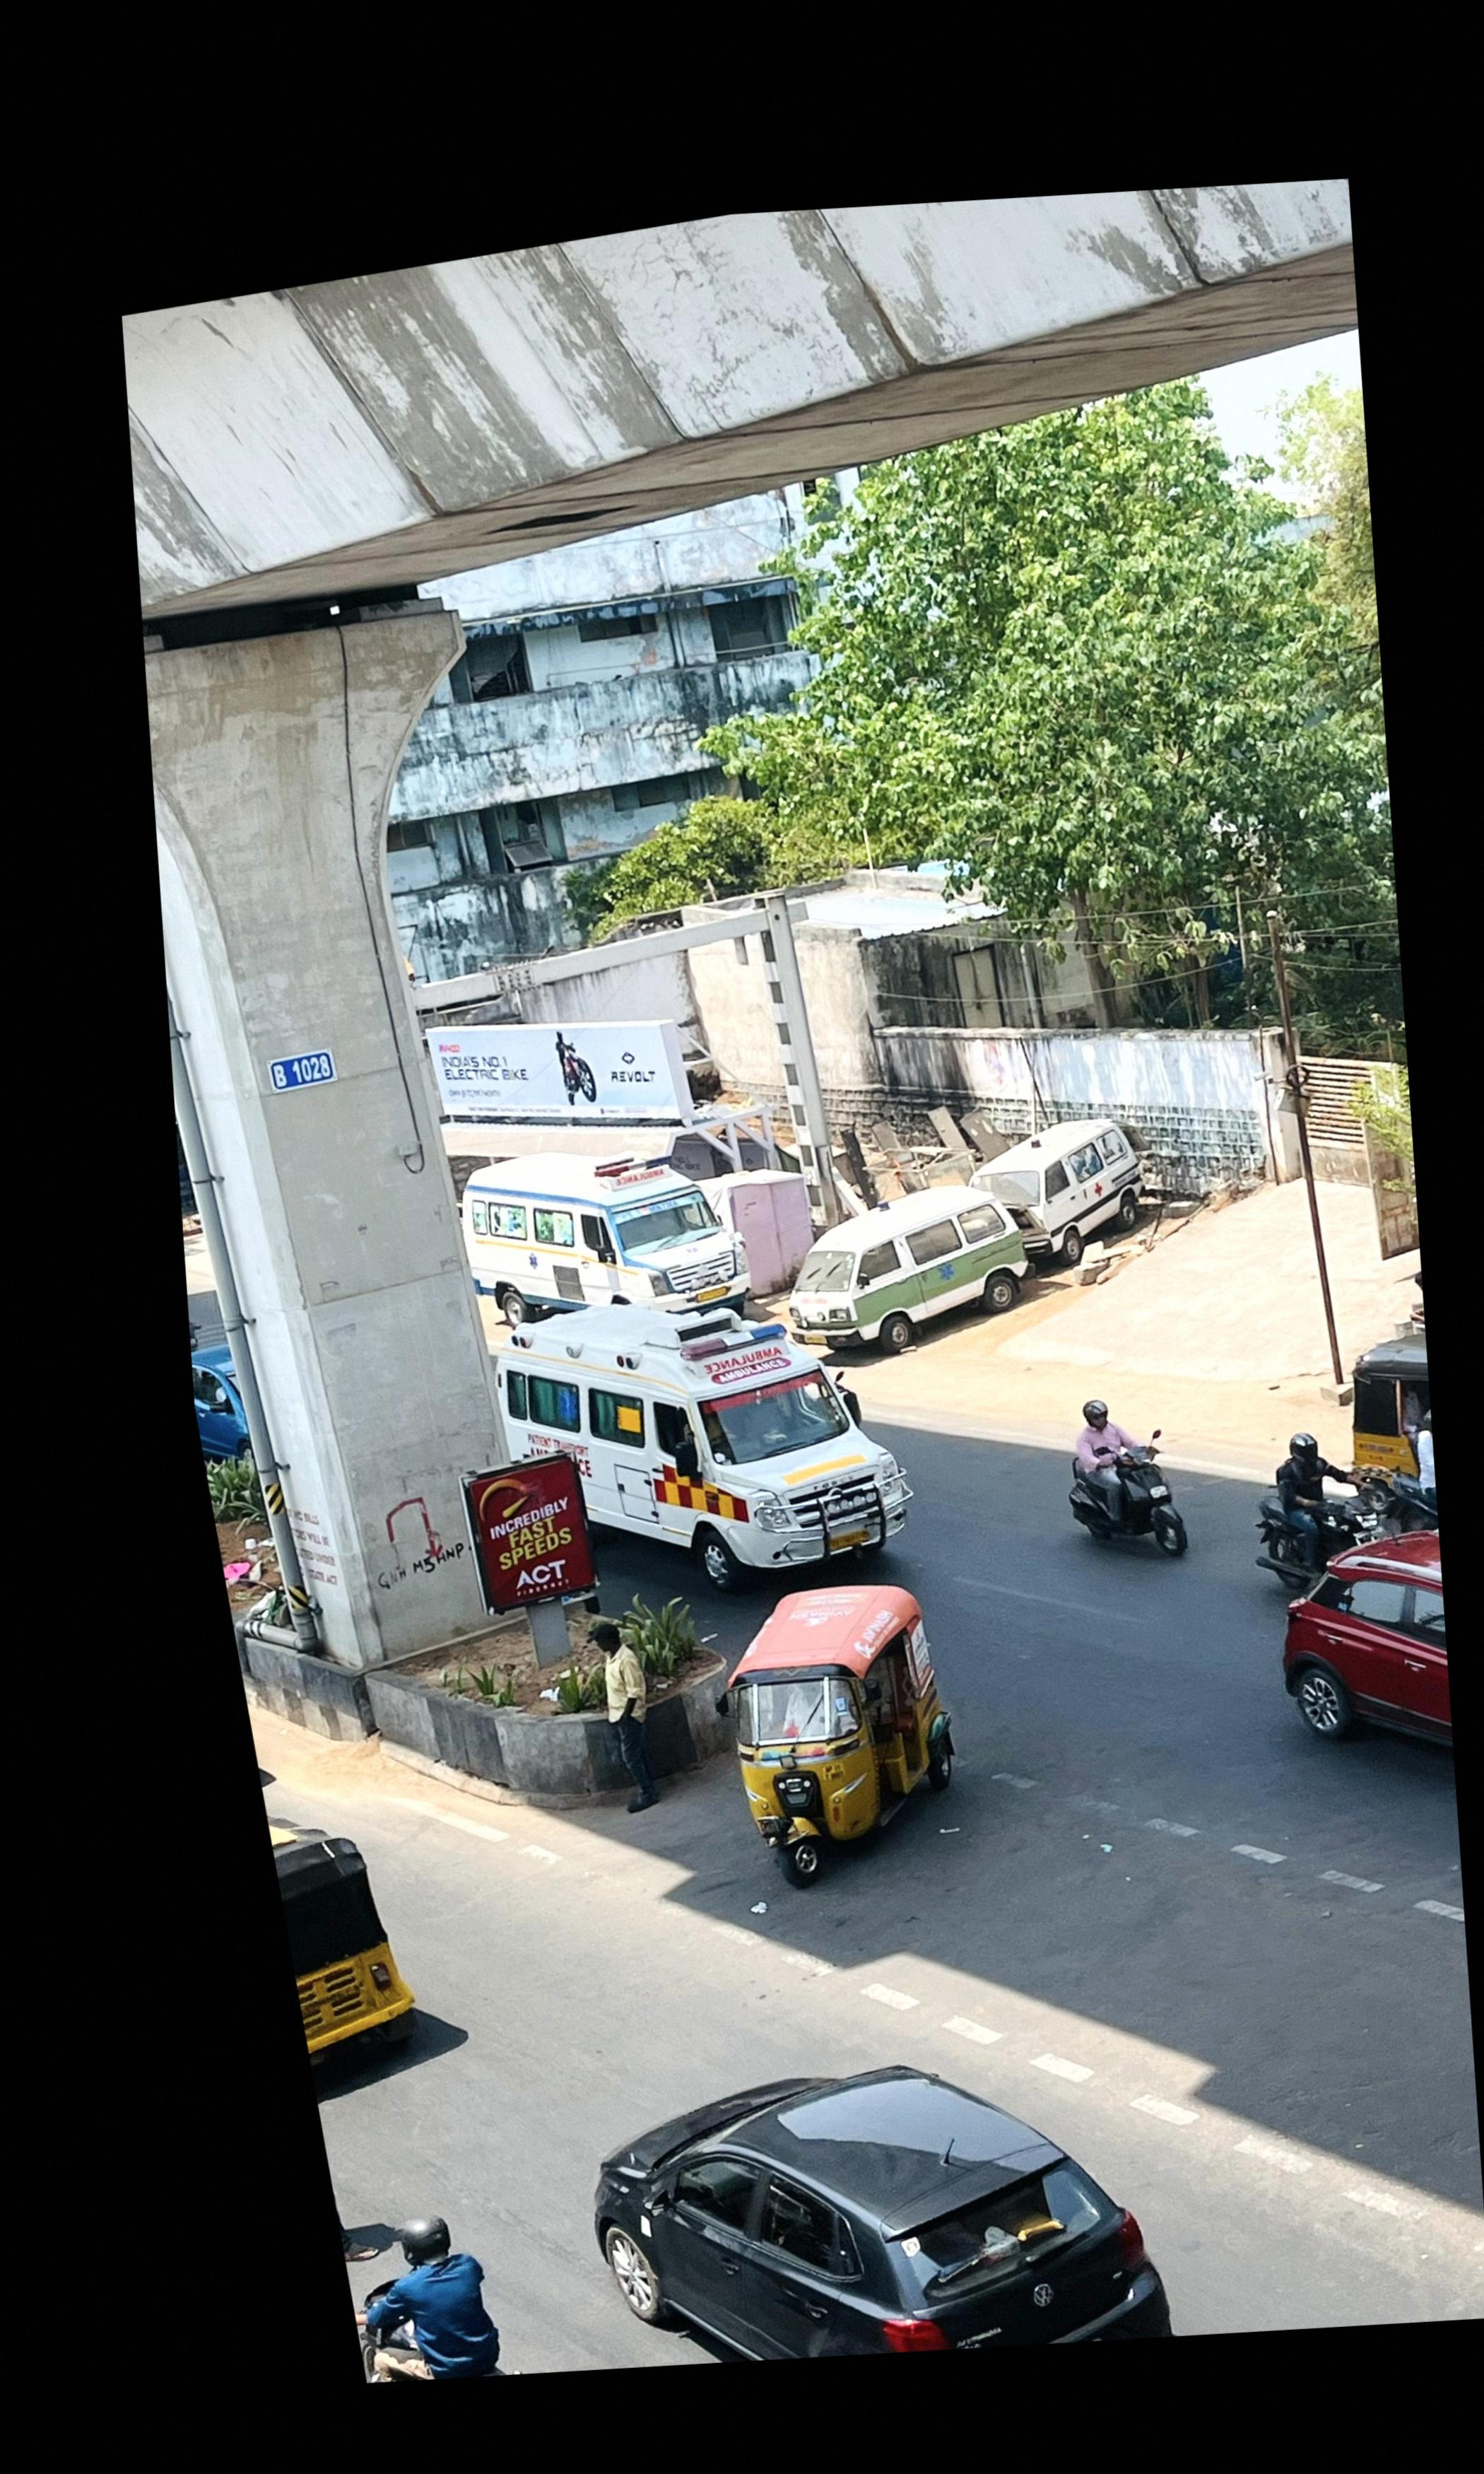ambulance: (497, 1299, 910, 1577)
